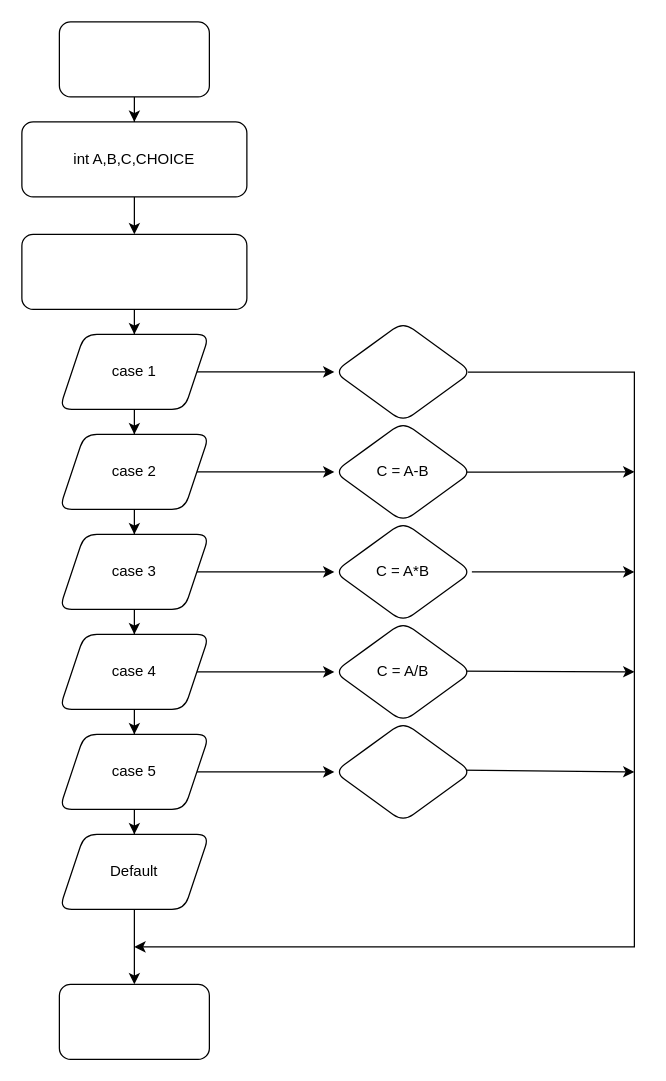
The diagram is 666 pixels wide and 1081 high, and some of its shapes have lost their labels. Here are the shapes that lost their labels. From the top down, the box of each, then its label:
(58, 21, 209, 97): START
(21, 233, 247, 309): switch(CHOICE)
(333, 321, 472, 422): C = A+B
(333, 721, 472, 822): C = A*A
(58, 983, 209, 1059): END
